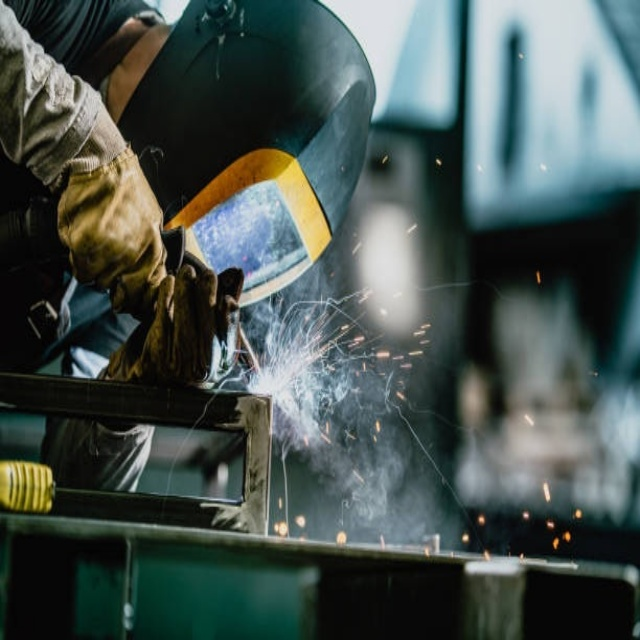Guantes: (53, 94, 169, 314), (104, 247, 241, 389)
